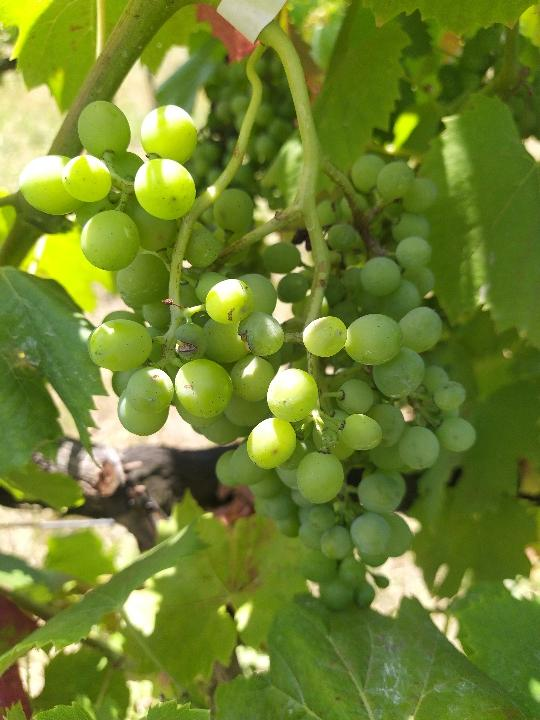grape: (16, 99, 478, 612)
